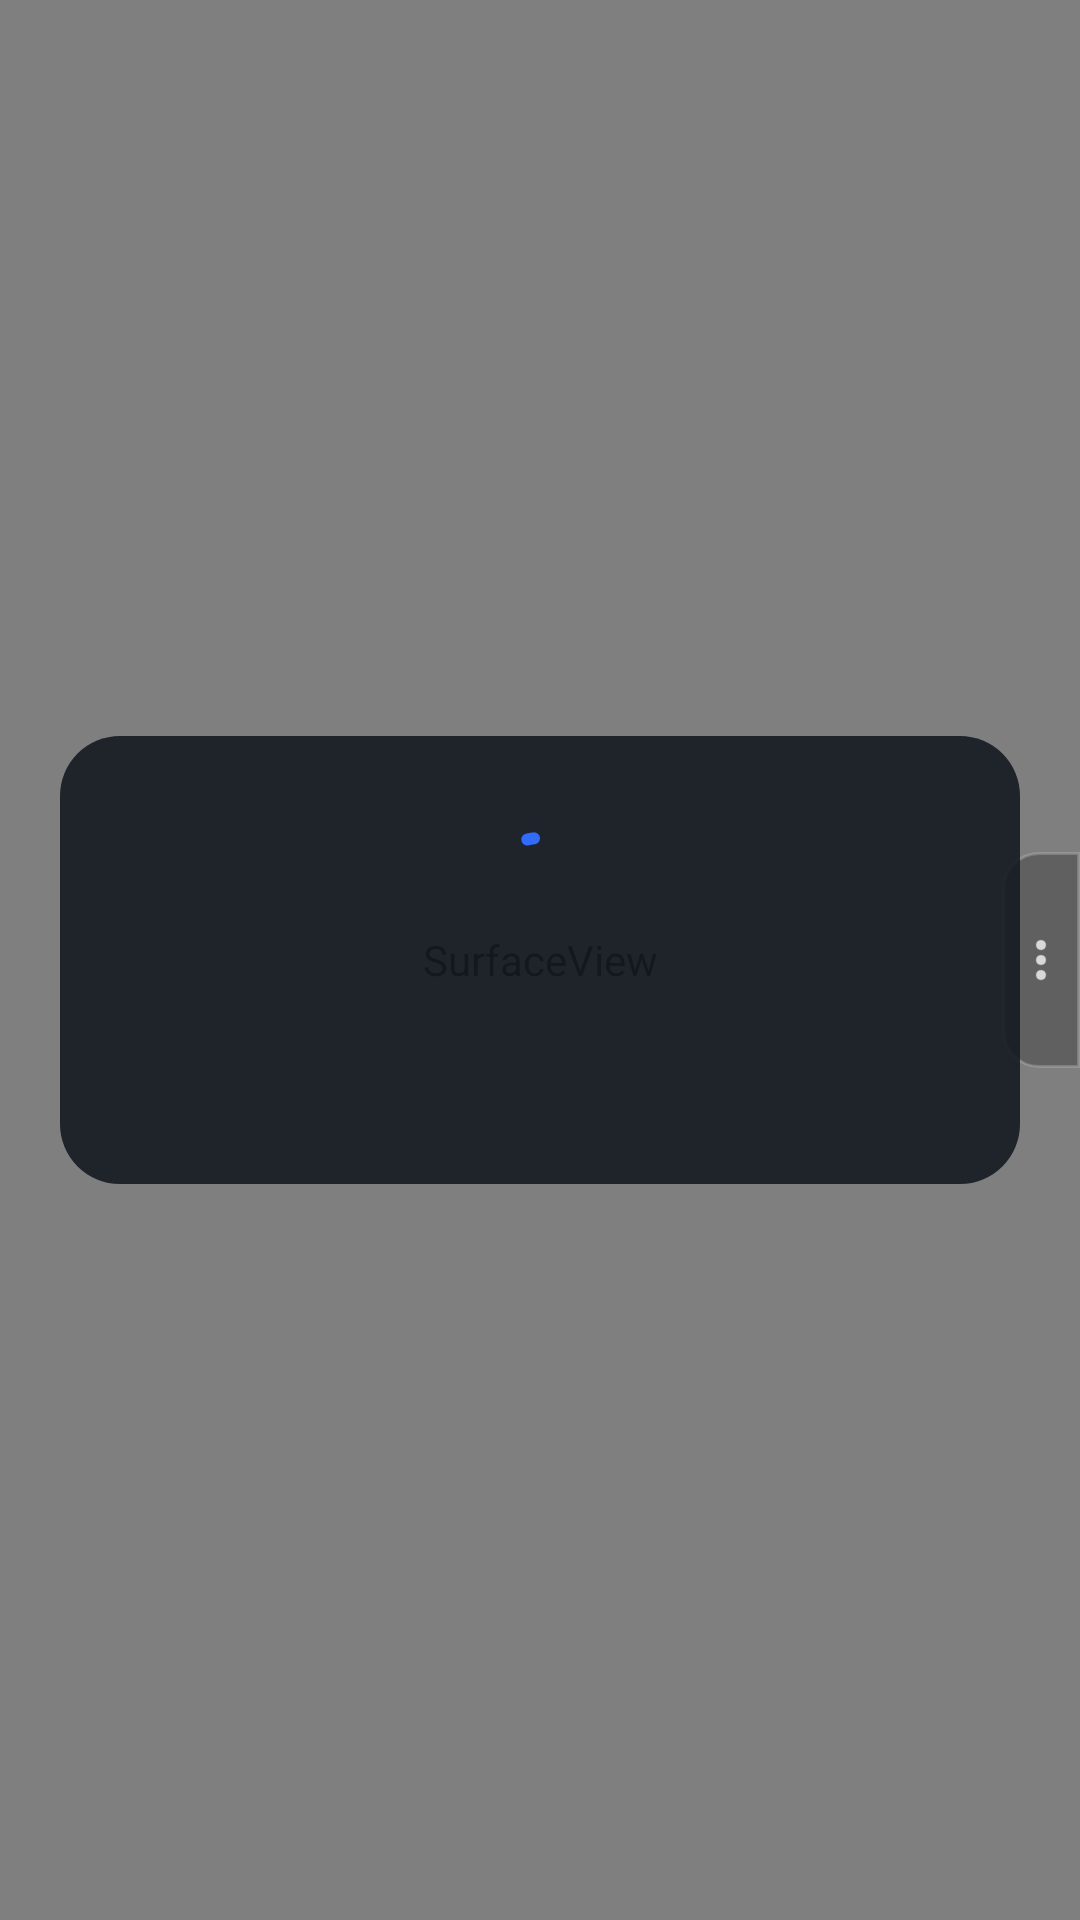

Named icons in this screenshot (1080px×1920px) and their bounding boxes, (x1, y1, x2, y2):
Menu: (1020, 852, 1080, 1068)
